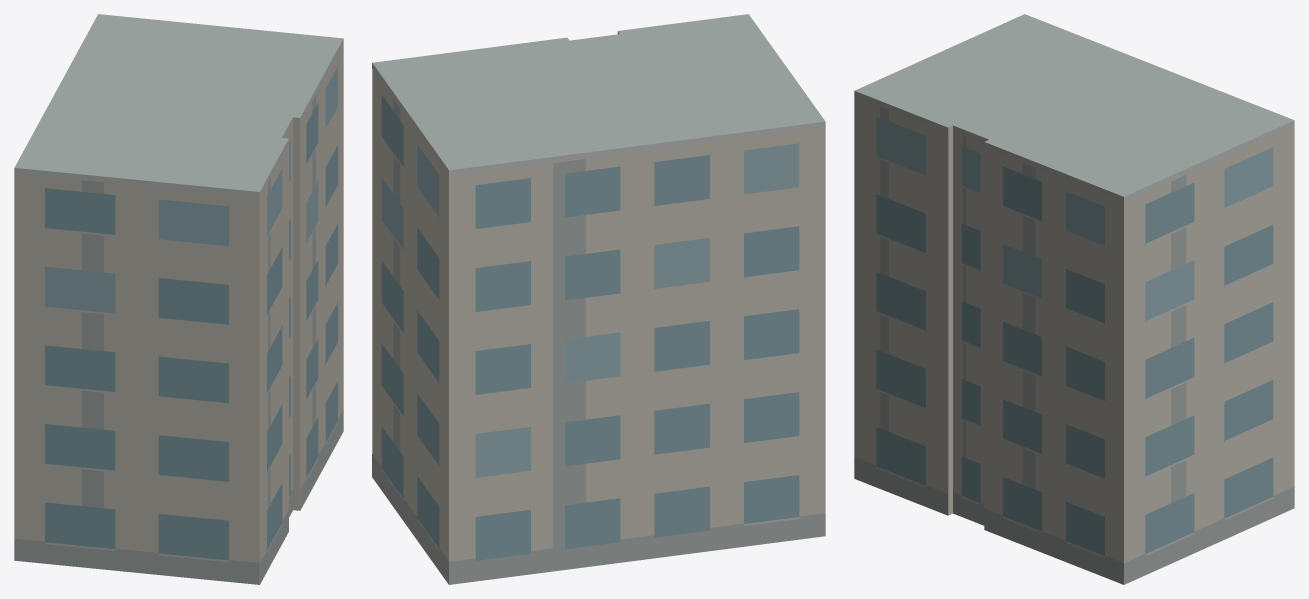
File: survey-upis-32834753.glb
3 views of the same model, side by side, from view 1: azimuth 30°, elevation 25°; view 2: azimuth 150°, elevation 25°; view 3: azimuth 270°, elevation 25° (orthographic). The views are drawn at different scales.
Visible parts, largest first — view 1: survey-upis-32834753.tmp; view 2: survey-upis-32834753.tmp; view 3: survey-upis-32834753.tmp.
Boxes of the visible parts, x1,y1,x2,y2 form: survey-upis-32834753.tmp: (14, 14, 343, 584); survey-upis-32834753.tmp: (372, 14, 825, 584); survey-upis-32834753.tmp: (854, 14, 1294, 584).
Bounding box in the file's own units: 16.3 × 16.12 × 16.58.
